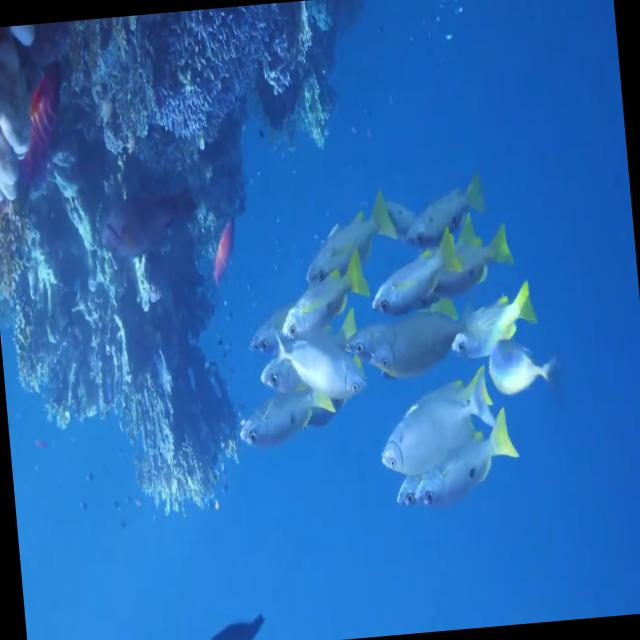fish: (0, 59, 86, 216), (374, 374, 502, 478), (407, 420, 528, 522), (426, 272, 544, 367), (265, 310, 370, 415), (363, 227, 469, 326), (428, 222, 516, 324), (399, 166, 492, 254), (301, 202, 398, 286), (368, 305, 466, 388), (276, 266, 374, 340), (230, 386, 317, 467), (478, 332, 562, 402), (195, 212, 252, 286), (250, 352, 318, 408), (240, 310, 282, 357), (342, 325, 374, 364)
